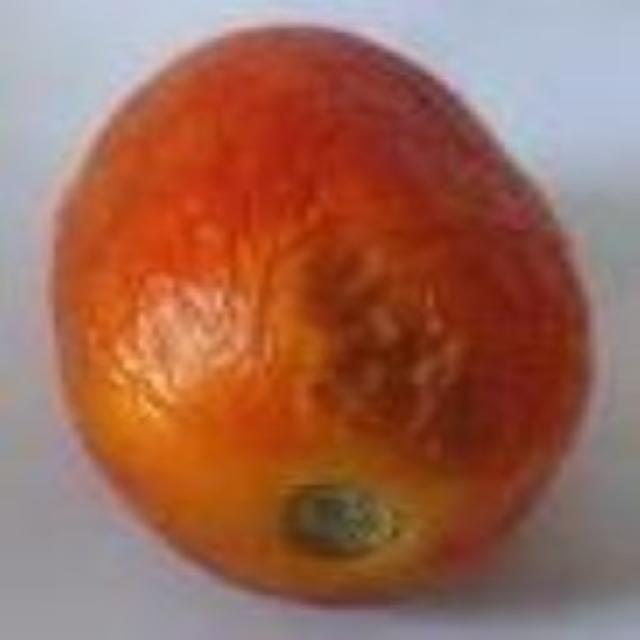defect: (44, 21, 604, 607)
